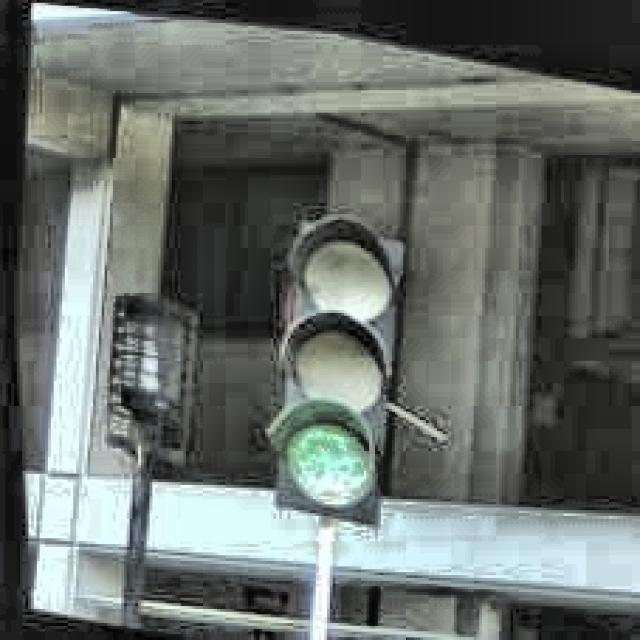green: (240, 195, 414, 527)
